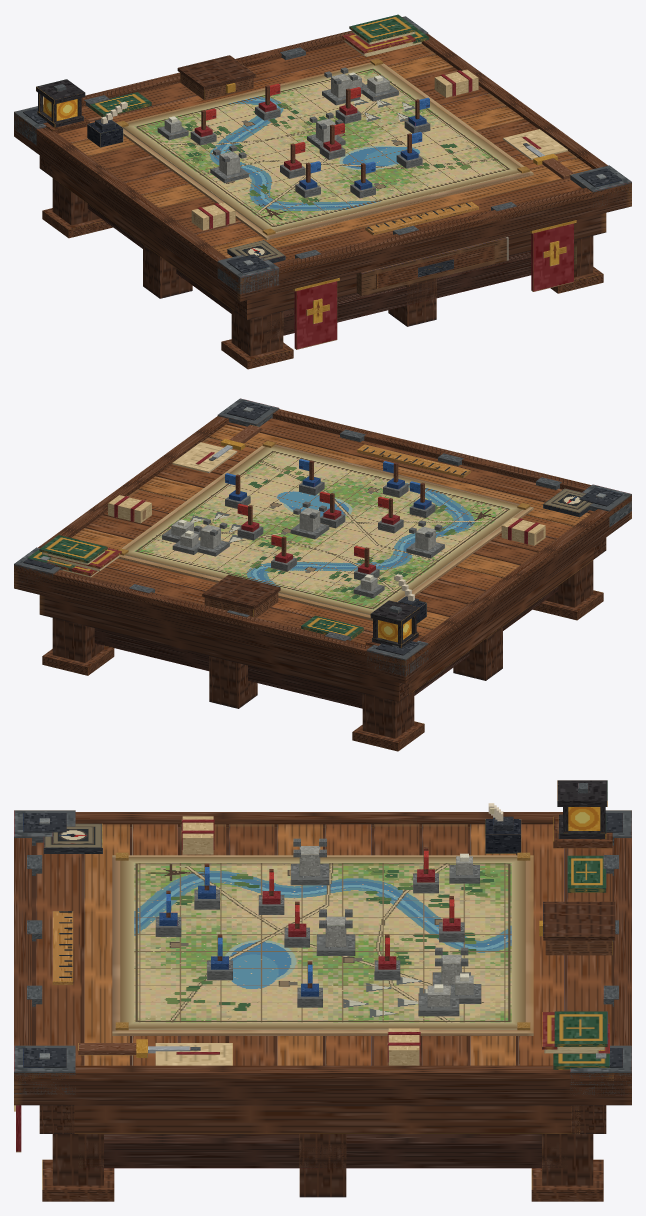
The model's file is combat_table_3d.glb.
3 views of the same model, one above another, from view 1: azimuth 30°, elevation 25°; view 2: azimuth 150°, elevation 25°; view 3: azimuth 270°, elevation 25° (orthographic). The views are drawn at different scales.
Visible parts, largest first — view 1: world; view 2: world; view 3: world.
Boxes of the visible parts, bbox=[...] form: world: bbox=[14, 14, 631, 369]; world: bbox=[14, 398, 631, 751]; world: bbox=[14, 780, 631, 1201].
Bounding box in the file's own units: 48 × 15.96 × 48.
1 material, 1 textured.
